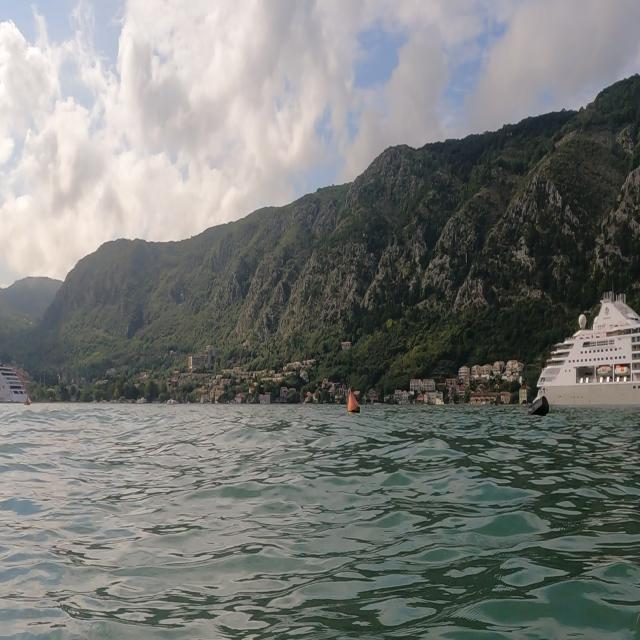boat: (526, 284, 638, 418)
buoy: (523, 391, 555, 425), (344, 382, 364, 422)
